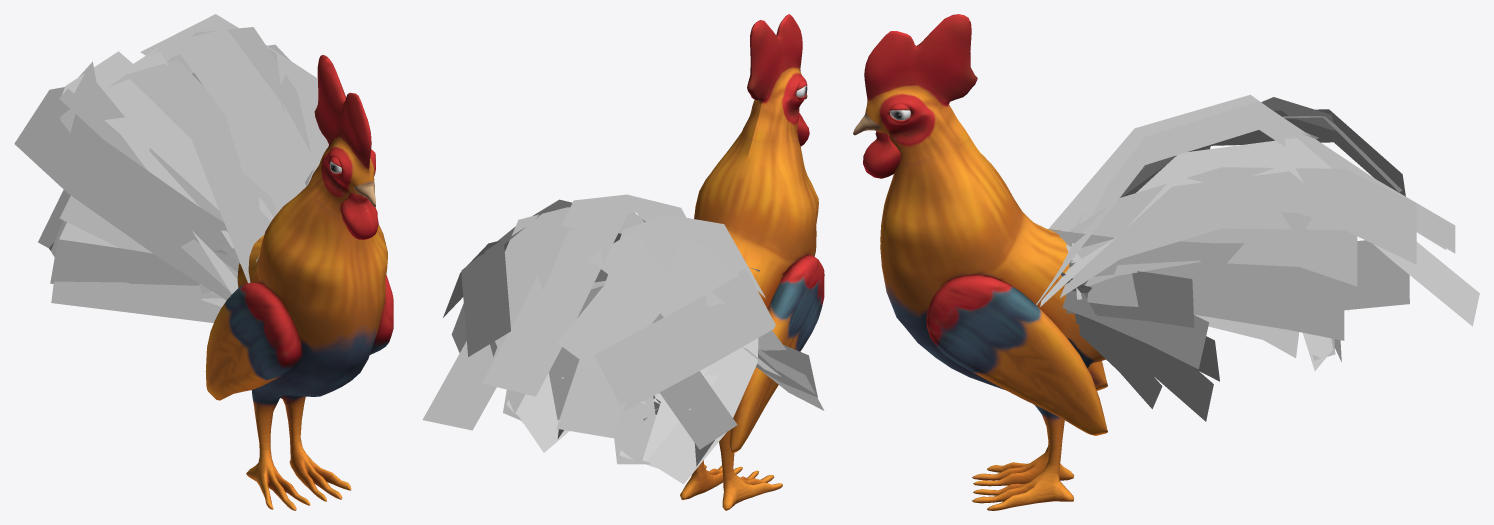
The model's file is RoosterComplete.fbx.
The picture shows the model from 3 angles, left to right: view 1: azimuth 30°, elevation 25°; view 2: azimuth 150°, elevation 25°; view 3: azimuth 270°, elevation 25°; orthographic projection. The views are drawn at different scales.
Parts seen in each view (by area): view 1: Fbig_low19; view 2: Fbig_low19; view 3: Fbig_low19.
Part boxes in pixels (bbox=[...]): Fbig_low19: bbox=[14, 14, 393, 510]; Fbig_low19: bbox=[422, 14, 824, 510]; Fbig_low19: bbox=[853, 14, 1479, 510].
Bounding box in the file's own units: 3.38 × 4.49 × 5.34.
